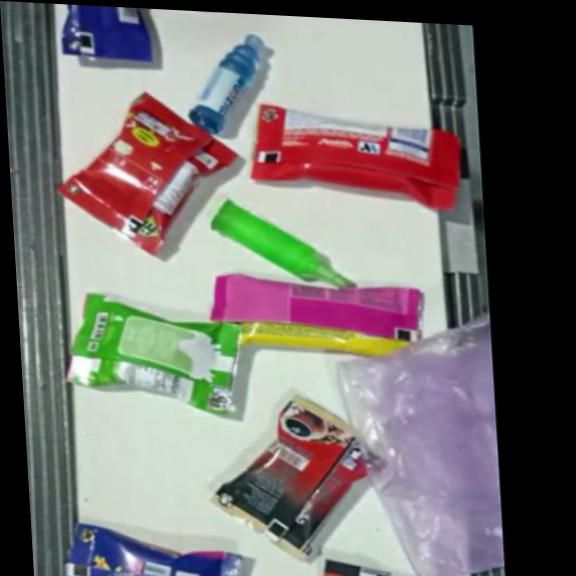Plastik: (333, 301, 506, 576), (50, 86, 243, 258), (206, 389, 395, 562), (248, 101, 460, 211), (61, 292, 244, 419), (206, 271, 425, 362), (211, 198, 357, 289), (62, 522, 244, 576), (185, 29, 270, 136), (57, 3, 156, 64), (322, 557, 440, 576)
